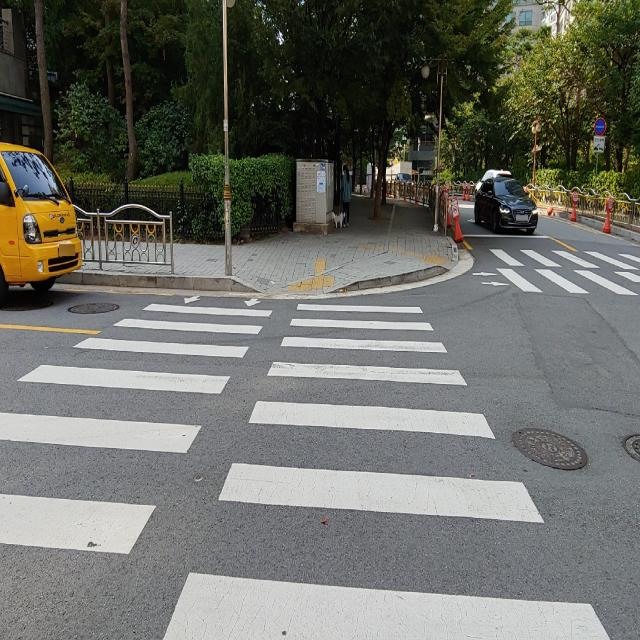횡단보도: (0, 290, 610, 640), (471, 240, 640, 294)
